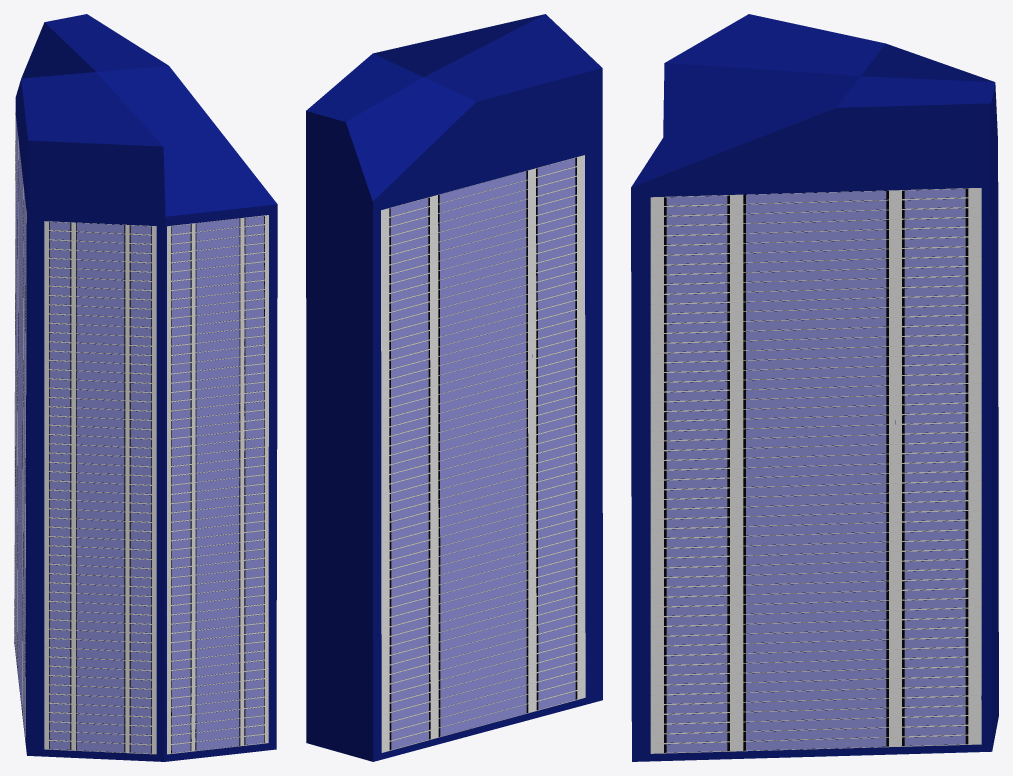
The model's file is WestInsburyStockExchangeTower.fbx.
3 views of the same model, side by side, from view 1: azimuth 30°, elevation 25°; view 2: azimuth 150°, elevation 25°; view 3: azimuth 270°, elevation 25° (orthographic). The views are drawn at different scales.
Parts seen in each view (by area): view 1: WestInsburyStockExchangeTower, Window, Window.001, Window.003; view 2: Window.003, WestInsburyStockExchangeTower; view 3: Window.002, WestInsburyStockExchangeTower.
Part boxes in pixels (x1=…): WestInsburyStockExchangeTower: x1=14, y1=14, x2=277, y2=761; Window: x1=44, y1=221, x2=156, y2=754; Window.001: x1=167, y1=215, x2=268, y2=754; Window.003: x1=14, y1=112, x2=26, y2=739; Window.003: x1=381, y1=155, x2=585, y2=752; WestInsburyStockExchangeTower: x1=306, y1=14, x2=602, y2=761; Window.002: x1=650, y1=188, x2=981, y2=753; WestInsburyStockExchangeTower: x1=631, y1=14, x2=998, y2=761.
Bounding box in the file's own units: 4478 × 13551 × 6960.
